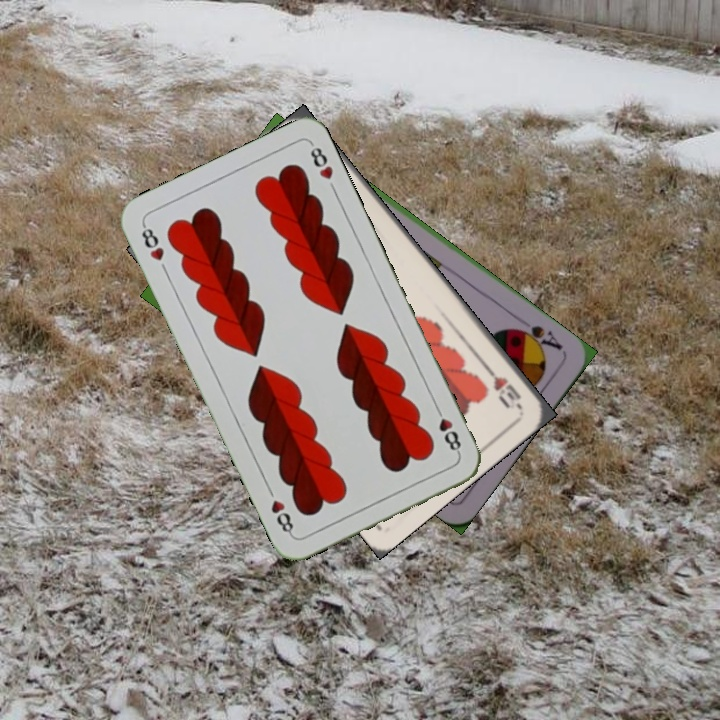H10: (481, 361, 524, 411)
H8: (431, 402, 464, 457), (137, 220, 167, 264)
SA: (509, 321, 566, 354)
